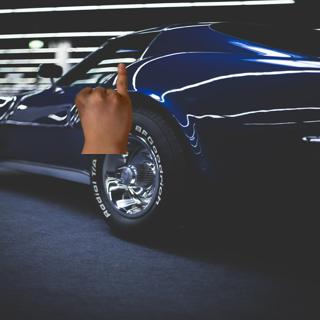FINE: (72, 60, 137, 150)
